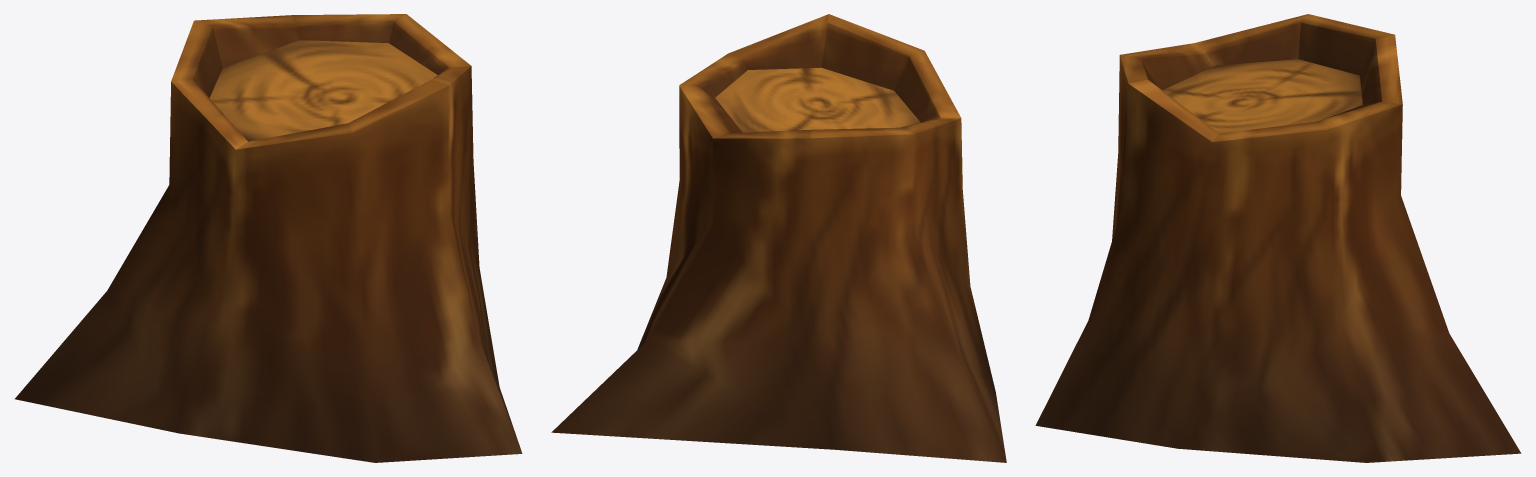
File: stump_1.fbx
3 renders of one model, left to right at view 1: azimuth 30°, elevation 25°; view 2: azimuth 150°, elevation 25°; view 3: azimuth 270°, elevation 25°, orthographic. The views are drawn at different scales.
Visible parts, largest first — view 1: stump_1; view 2: stump_1; view 3: stump_1.
Part boxes in pixels (x1=…): stump_1: x1=15, y1=14, x2=522, y2=462; stump_1: x1=551, y1=14, x2=1006, y2=462; stump_1: x1=1035, y1=14, x2=1521, y2=462.
Bounding box in the file's own units: 1.72 × 1.35 × 1.79.
